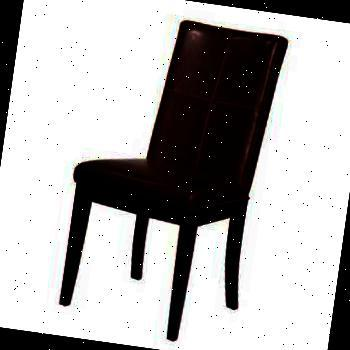Silla: (52, 11, 285, 349)
